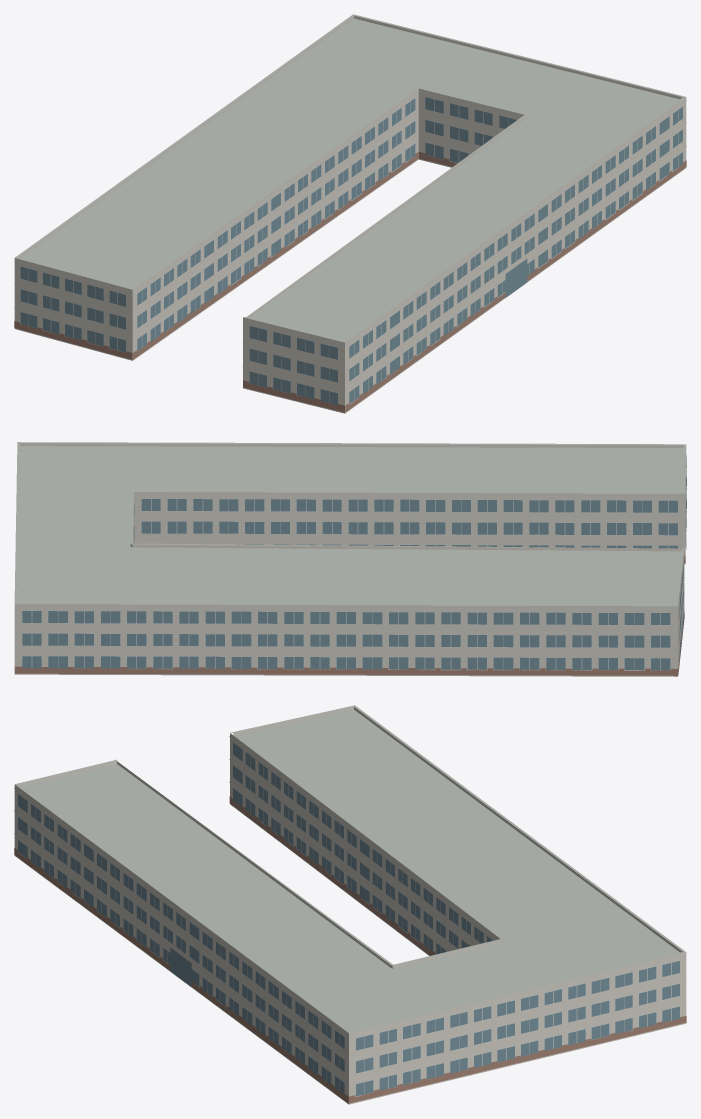
File: public-d4cd9114-282d-4190-b04f-dd0d88584aa3.glb
3 views of the same model, one above another, from view 1: azimuth 30°, elevation 25°; view 2: azimuth 150°, elevation 25°; view 3: azimuth 270°, elevation 25° (orthographic).
Parts seen in each view (by area): view 1: public-d4cd9114-282d-4190-b04f-dd0d88584aa3; view 2: public-d4cd9114-282d-4190-b04f-dd0d88584aa3; view 3: public-d4cd9114-282d-4190-b04f-dd0d88584aa3.
Part boxes in pixels (x1,y1,x2,y2): public-d4cd9114-282d-4190-b04f-dd0d88584aa3: (14, 14, 686, 413); public-d4cd9114-282d-4190-b04f-dd0d88584aa3: (14, 442, 686, 676); public-d4cd9114-282d-4190-b04f-dd0d88584aa3: (14, 705, 686, 1104).
Size of the model in its own units: 90.23 by 9.15 by 78.15.
